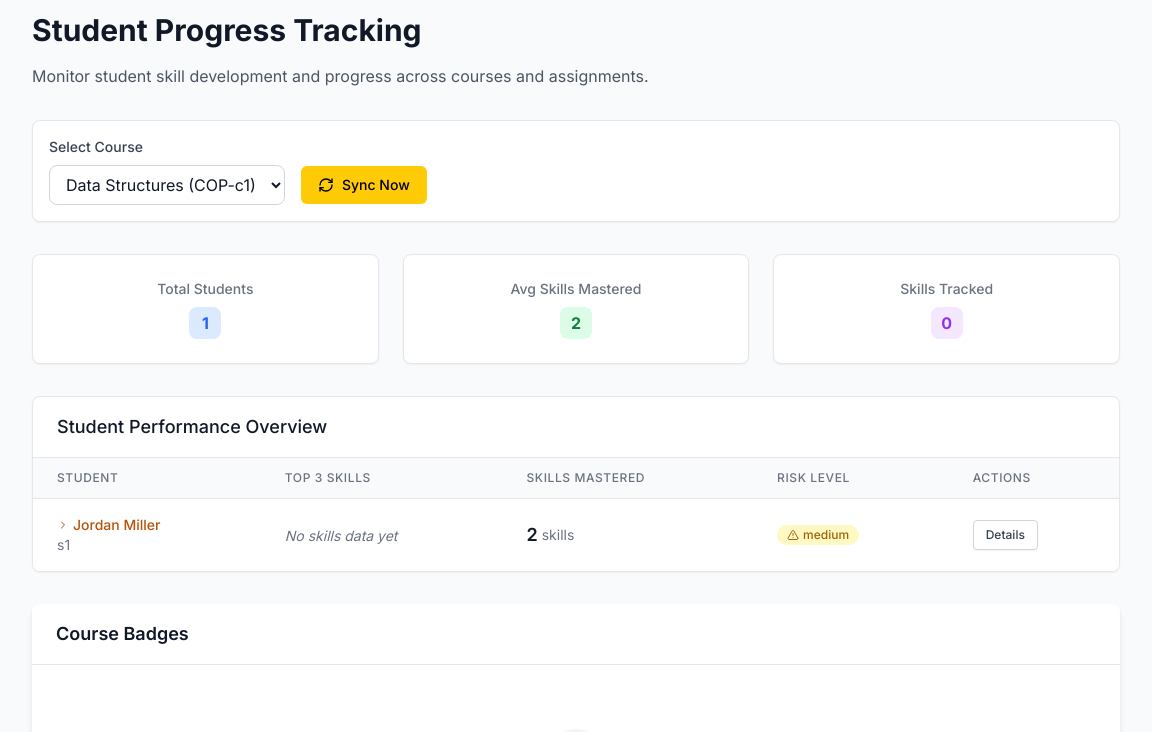
it: instructor badge view › clicking a student name expands an inline, authenticated badge view scoped to the selected course
Click the button "Jordan Miller": x=109, y=525 [57,515,160,535]
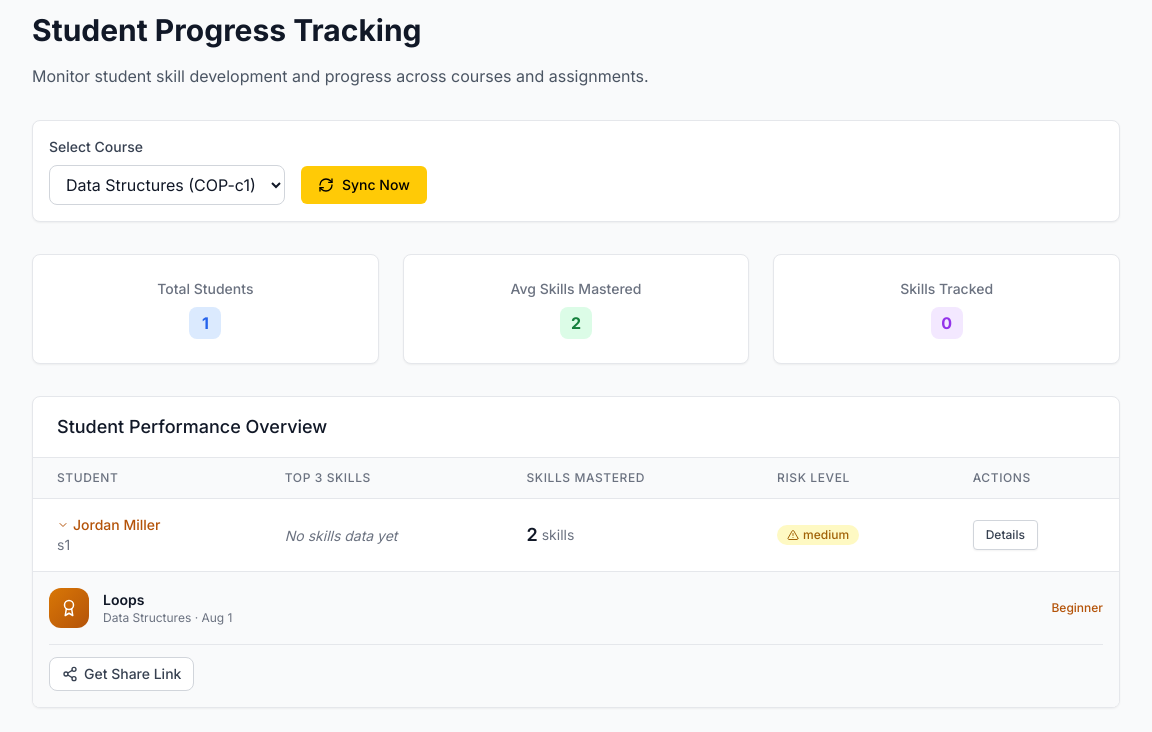
Expected: the text "Loops" is shown, [103,591,144,608]
